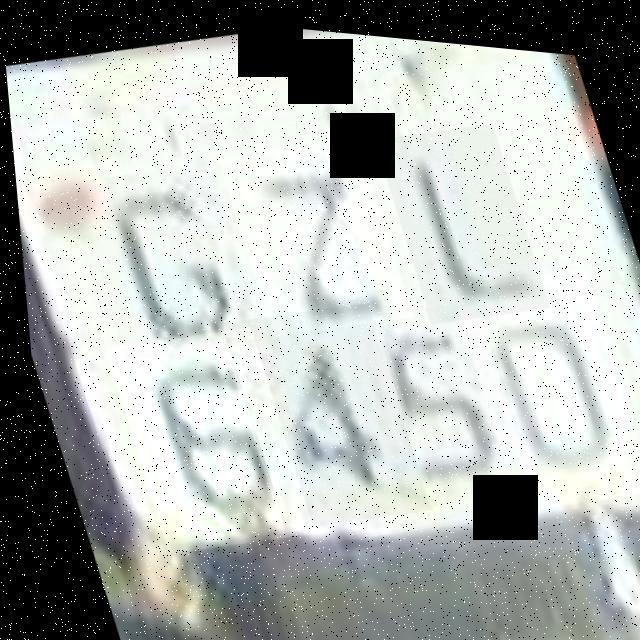0: (445, 246, 640, 510)
4: (212, 284, 426, 536)
5: (338, 280, 533, 512)
6: (95, 311, 308, 562)
J: (370, 104, 547, 324)
O: (65, 147, 262, 369)
Z: (212, 120, 411, 342)
